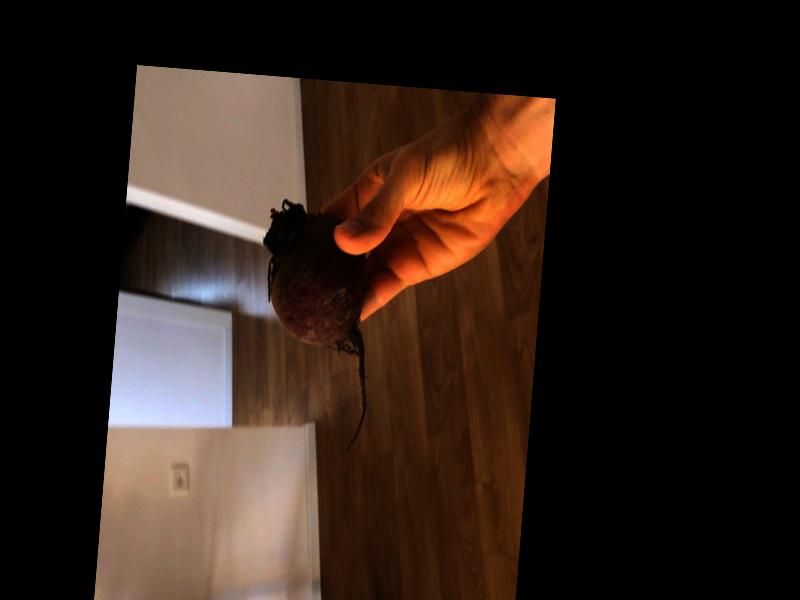Beet: (248, 201, 381, 453)
